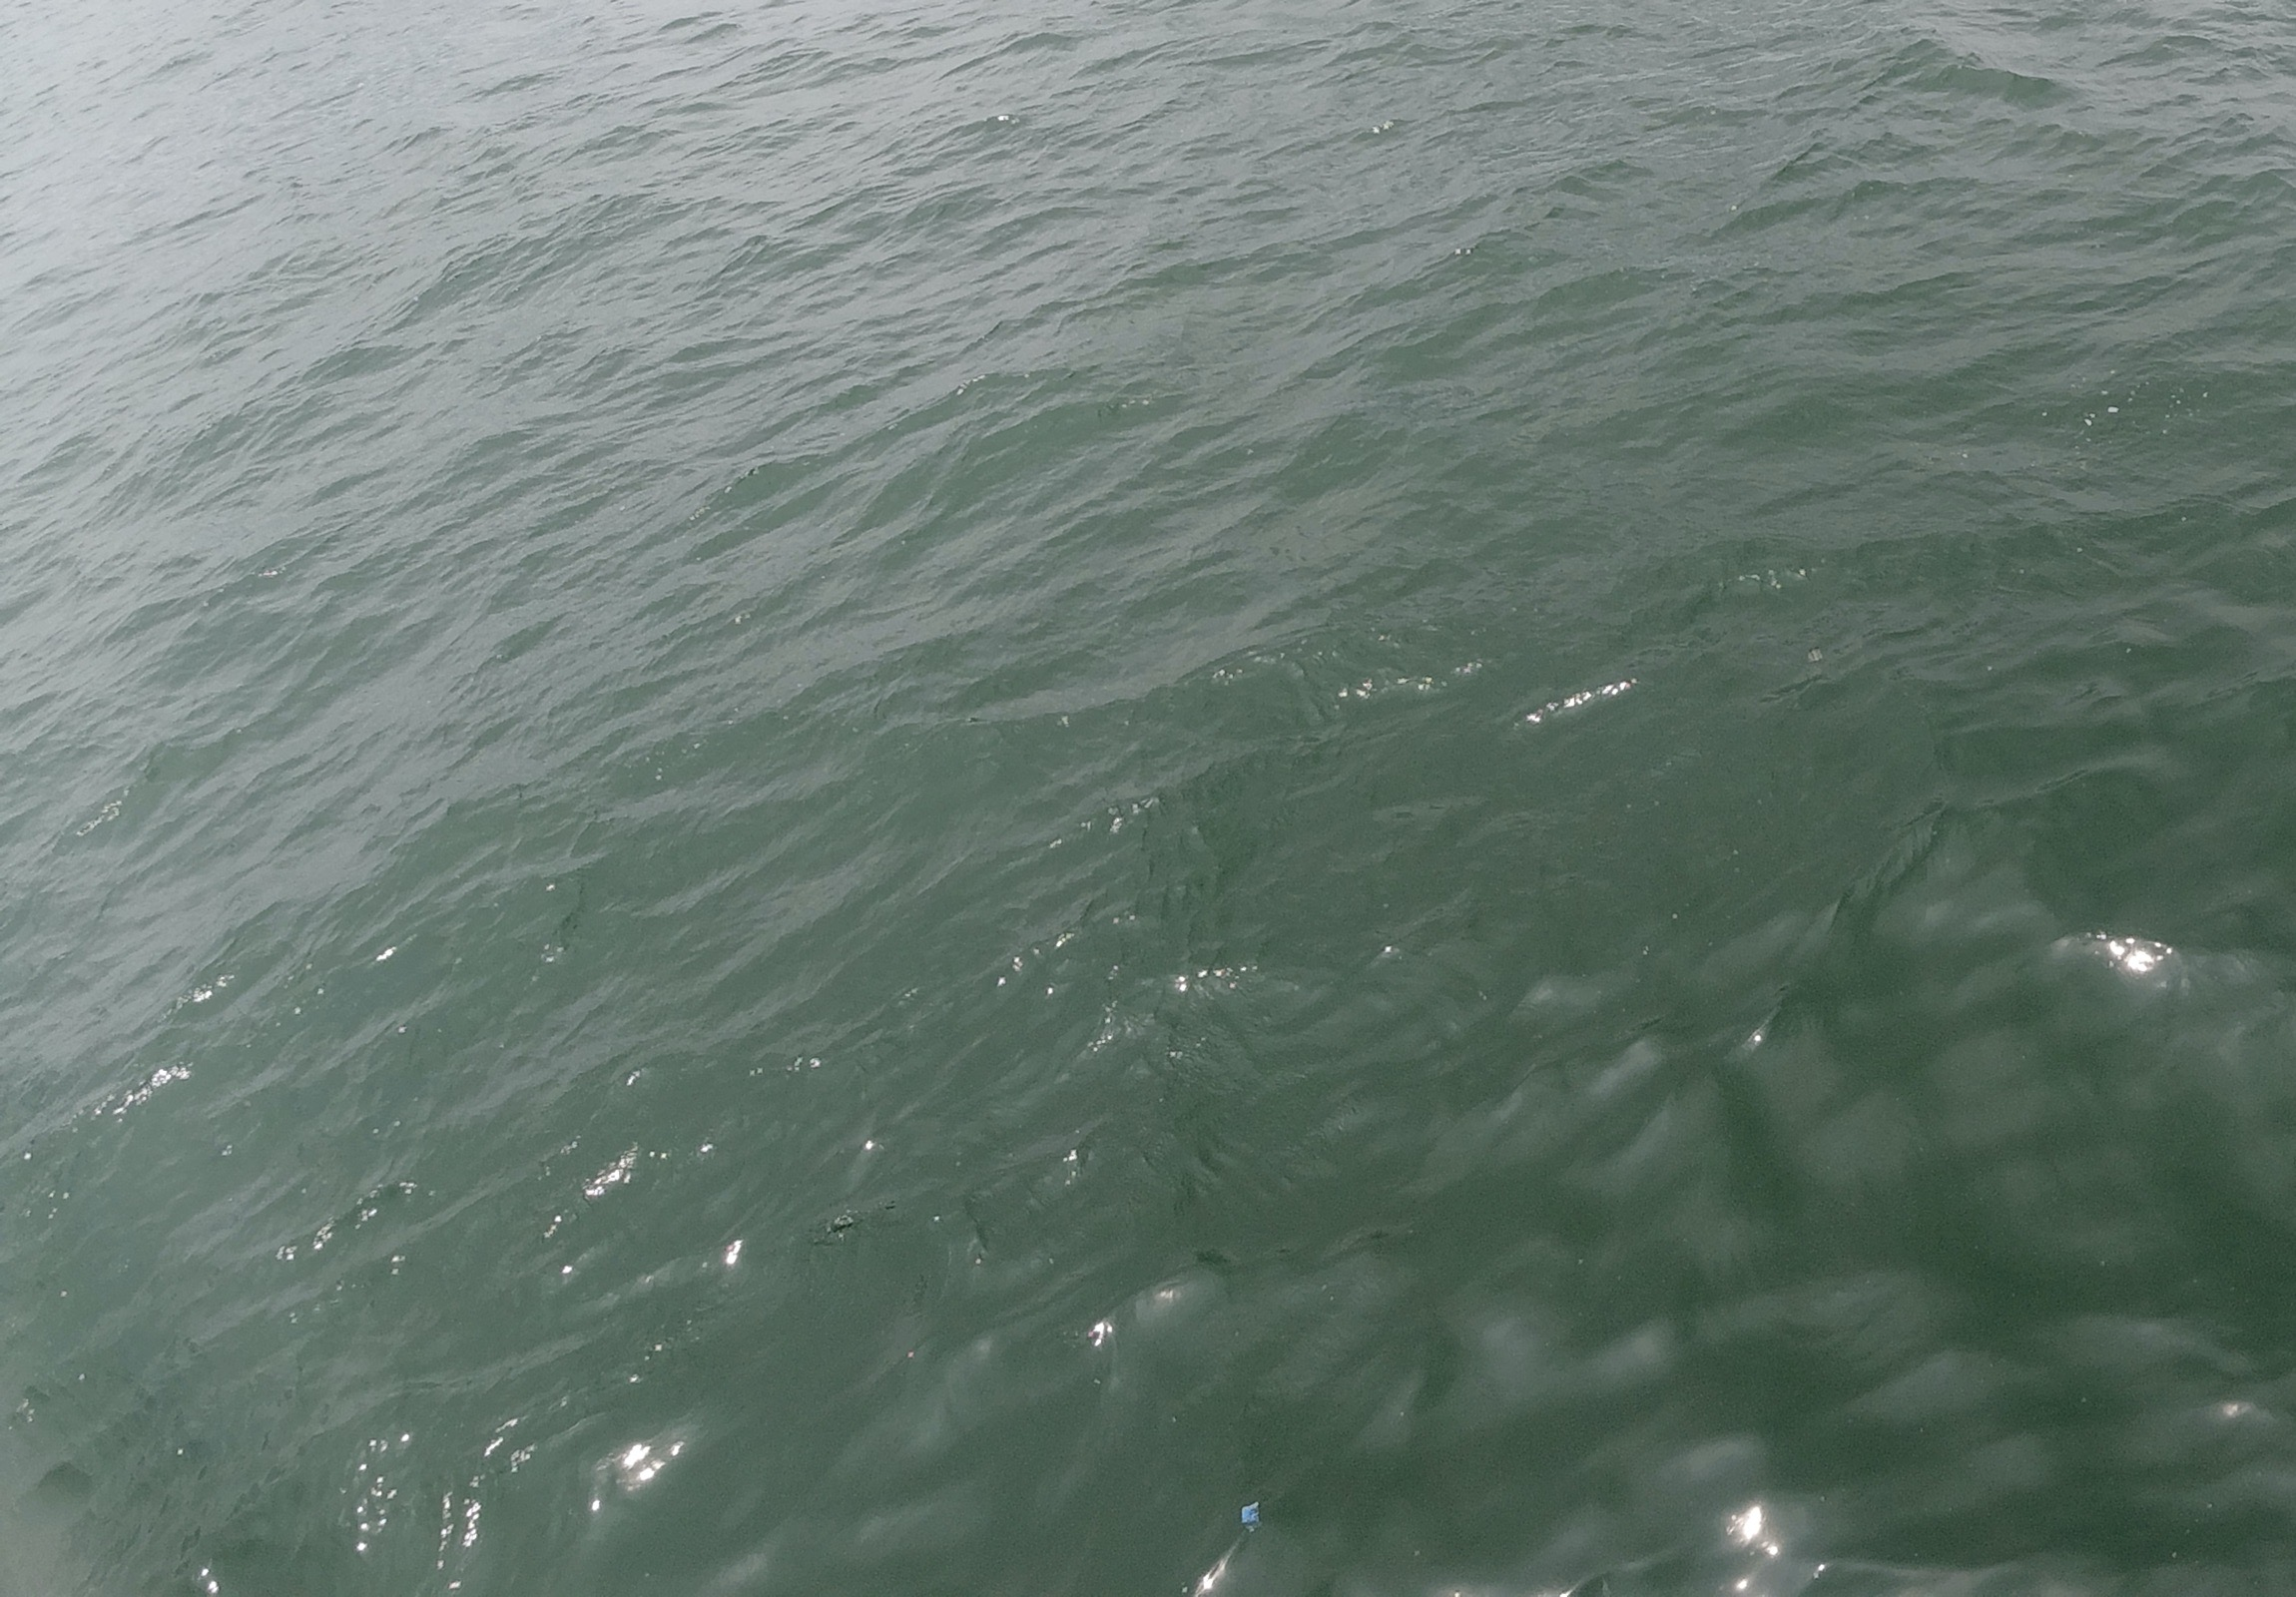plastic: (1230, 1491, 1274, 1545)
